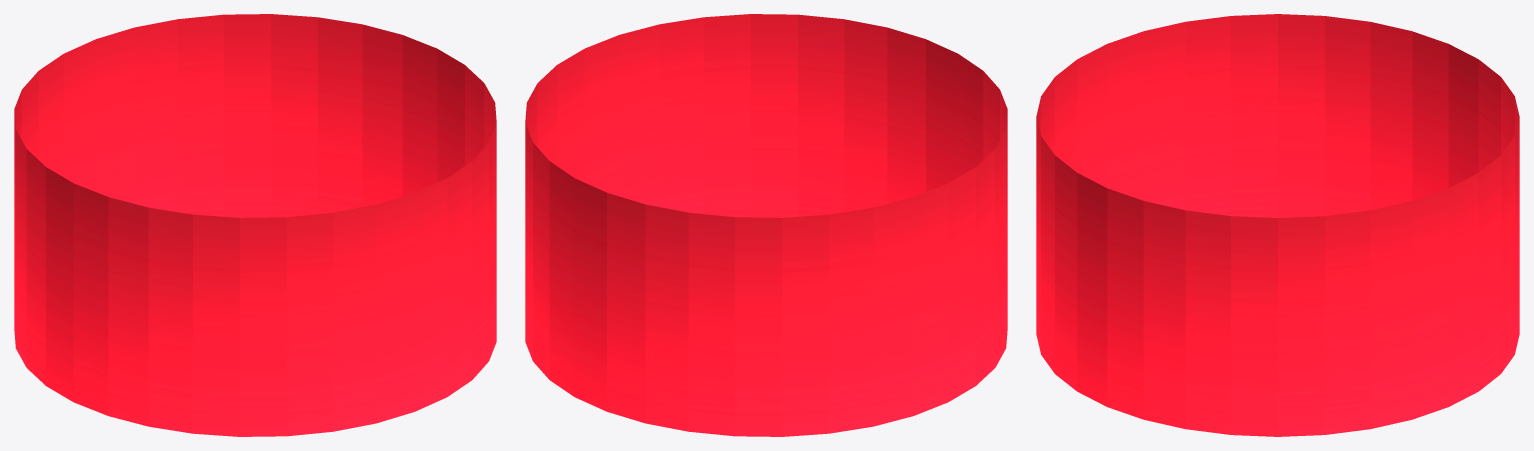
Rendered from lb_beam_0.glb.
3 views of the same model, side by side, from view 1: azimuth 30°, elevation 25°; view 2: azimuth 150°, elevation 25°; view 3: azimuth 270°, elevation 25° (orthographic).
Visible parts, largest first — view 1: lb_beam_0; view 2: lb_beam_0; view 3: lb_beam_0.
Part boxes in pixels (x1,y1,x2,y2): lb_beam_0: [14, 14, 496, 436]; lb_beam_0: [525, 14, 1007, 436]; lb_beam_0: [1036, 14, 1519, 436].
Size of the model in its own units: 2 by 1 by 2.
Materials: 1 (1 with a texture image).
